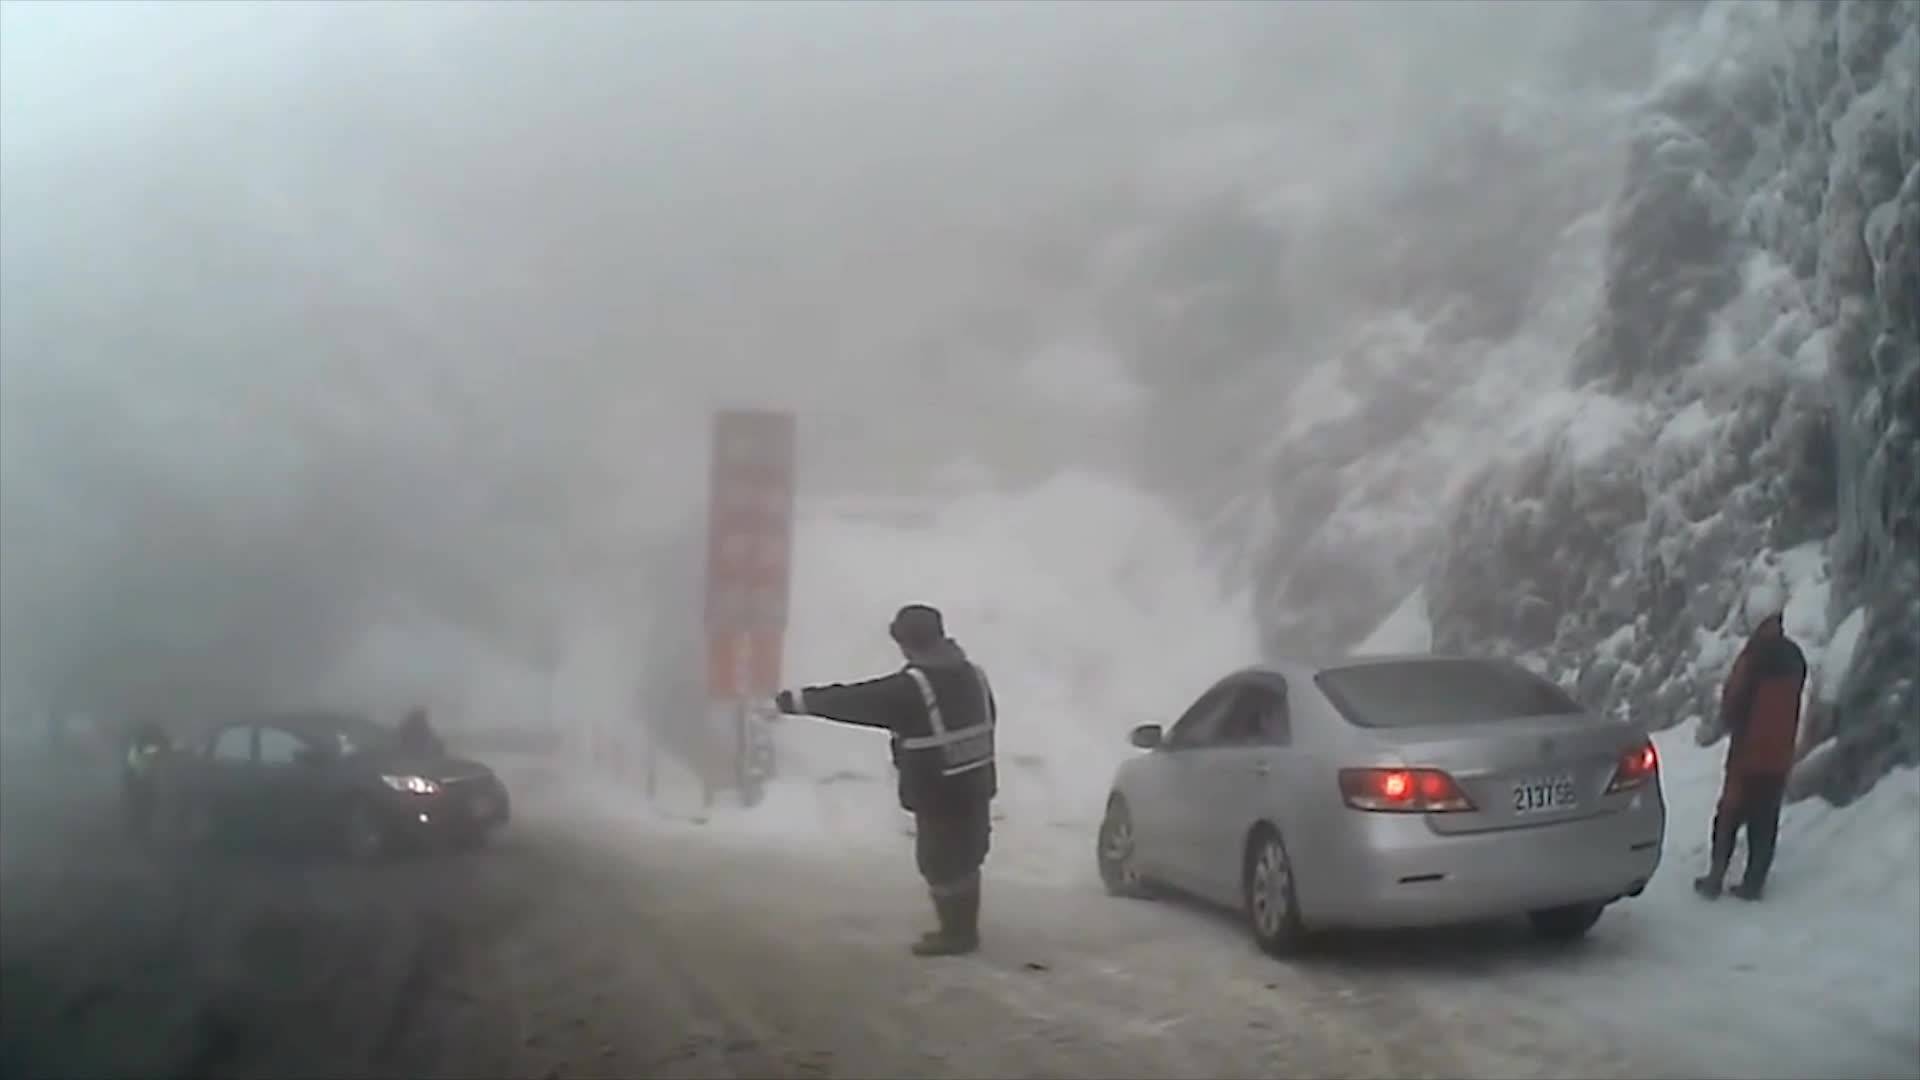pedestrian: (781, 597, 1004, 947), (1700, 587, 1810, 904)
vehicle: (1092, 653, 1663, 959), (157, 704, 511, 865)
